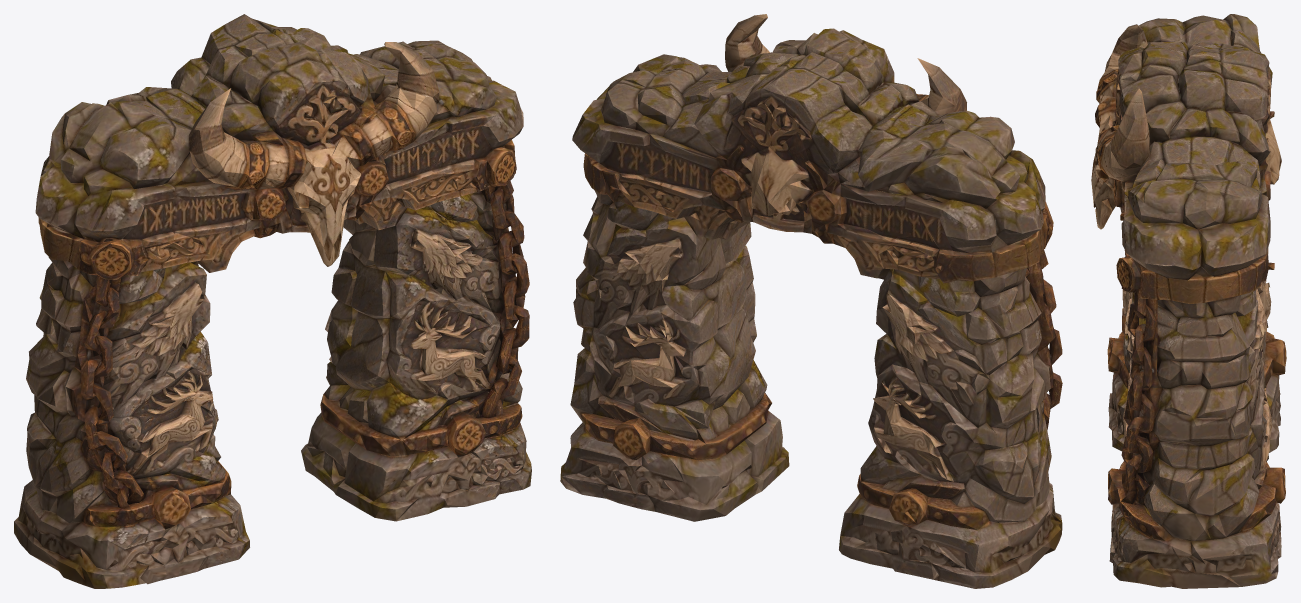
Rendered from n_kapi.glb.
3 renders of one model, left to right at view 1: azimuth 30°, elevation 25°; view 2: azimuth 150°, elevation 25°; view 3: azimuth 270°, elevation 25°, orthographic. The views are drawn at different scales.
Visible parts, largest first — view 1: output_unwrapped; view 2: output_unwrapped; view 3: output_unwrapped.
Part boxes in pixels (bbox=[...]): output_unwrapped: bbox=[14, 14, 531, 588]; output_unwrapped: bbox=[560, 14, 1062, 588]; output_unwrapped: bbox=[1091, 14, 1286, 588].
Bounding box in the file's own units: 1.9 × 1.84 × 0.7418.
1 material, 1 textured.
